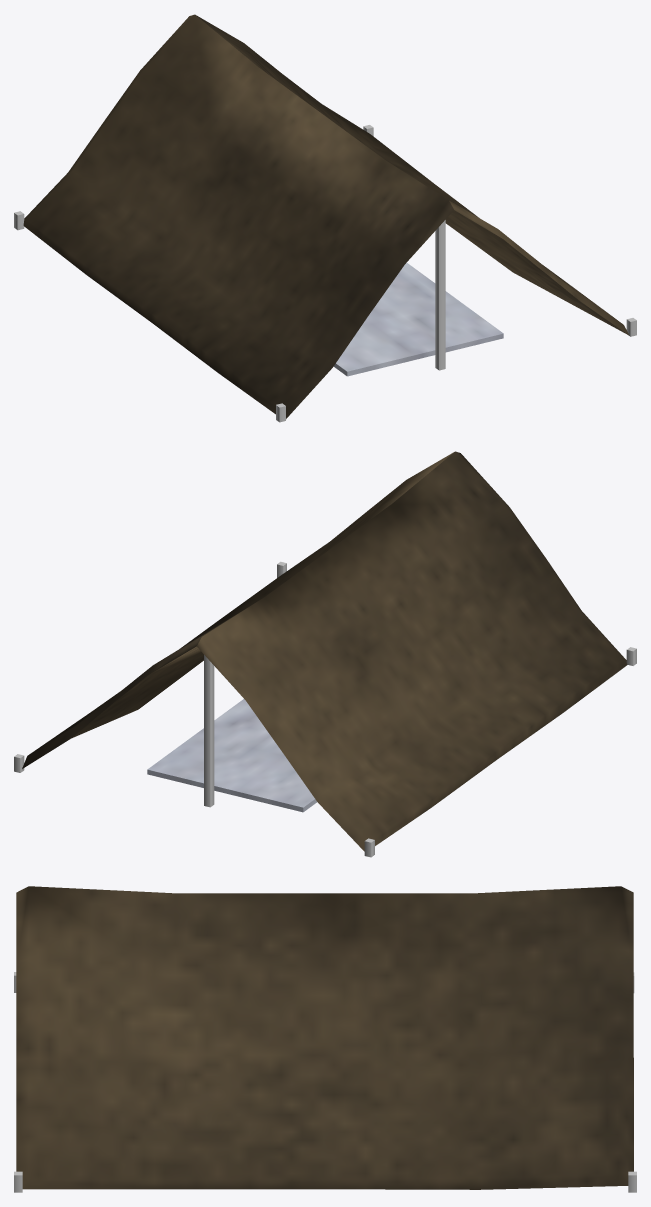
File: MS_Tent.fbx
3 renders of one model, top to bottom at view 1: azimuth 30°, elevation 25°; view 2: azimuth 150°, elevation 25°; view 3: azimuth 270°, elevation 25°, orthographic. The views are drawn at different scales.
Visible parts, largest first — view 1: MSH_Tent; view 2: MSH_Tent; view 3: MSH_Tent.
Boxes of the visible parts, bbox=[...] form: MSH_Tent: bbox=[14, 14, 636, 422]; MSH_Tent: bbox=[14, 451, 636, 857]; MSH_Tent: bbox=[14, 886, 636, 1192].
Bounding box in the file's own units: 156 × 73.33 × 202.
